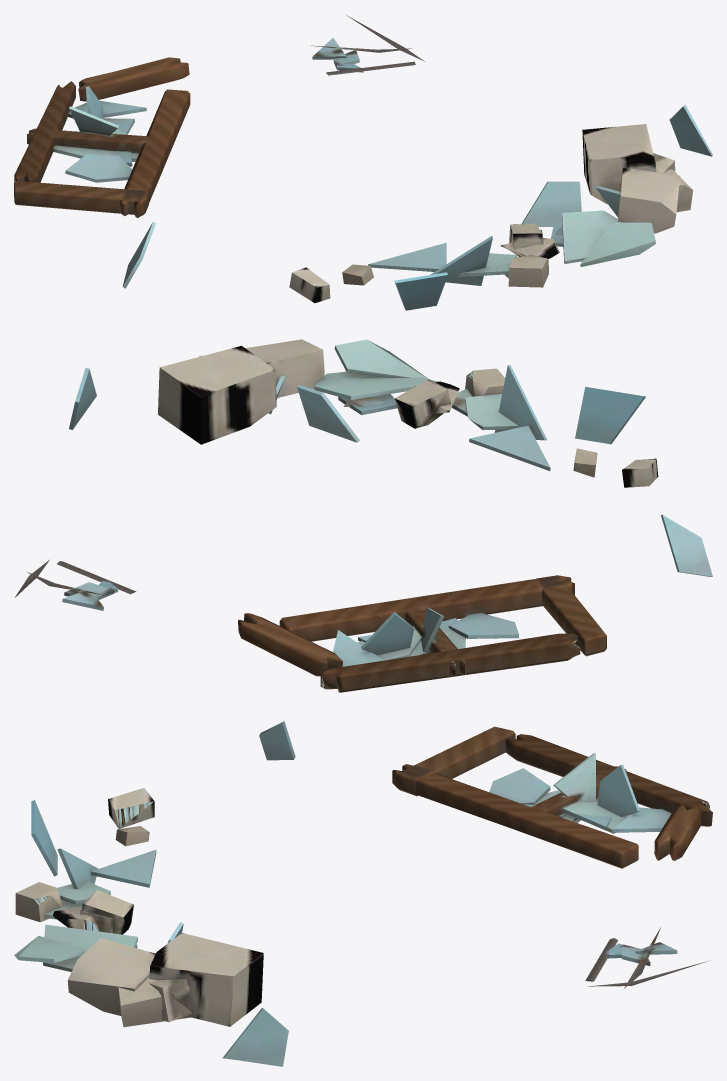
File: rough-glass-2.low.glb
3 renders of one model, top to bottom at view 1: azimuth 30°, elevation 25°; view 2: azimuth 150°, elevation 25°; view 3: azimuth 270°, elevation 25°, orthographic. The views are drawn at different scales.
Visible parts, largest first — view 1: rough-glass-2; view 2: rough-glass-2; view 3: rough-glass-2.
Boxes of the visible parts, x1,y1,x2,y2 form: rough-glass-2: (14, 15, 712, 310); rough-glass-2: (15, 339, 712, 692); rough-glass-2: (14, 721, 712, 1066).
Size of the model in its own units: 1.5 by 0.1486 by 1.42.
Materials: 1 (1 with a texture image).
